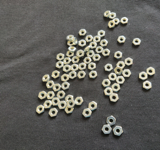nut: (114, 126, 124, 137), (102, 125, 112, 135), (104, 88, 114, 97), (49, 108, 58, 118), (107, 116, 116, 126), (147, 67, 156, 76), (102, 79, 111, 88), (110, 94, 119, 103), (57, 91, 66, 100), (38, 91, 47, 100), (36, 105, 45, 114), (65, 95, 74, 104), (58, 101, 67, 110), (75, 97, 84, 106), (65, 105, 74, 114), (89, 102, 98, 111), (83, 109, 92, 118), (116, 76, 126, 84), (51, 98, 61, 106), (133, 38, 142, 46), (140, 72, 148, 81), (144, 81, 152, 90), (115, 51, 123, 60), (102, 49, 111, 57), (114, 67, 123, 75), (109, 73, 117, 82), (112, 84, 121, 92), (88, 63, 97, 71), (89, 71, 98, 79), (56, 61, 64, 70), (52, 71, 61, 79), (42, 75, 51, 83), (62, 82, 71, 90), (46, 81, 55, 89), (67, 100, 76, 108), (98, 30, 106, 38), (86, 35, 94, 43), (125, 58, 133, 66), (96, 46, 104, 54), (77, 50, 85, 58), (105, 64, 113, 72), (93, 54, 101, 62), (57, 53, 65, 61), (72, 56, 80, 64), (79, 63, 87, 71), (71, 64, 79, 72), (63, 65, 71, 73), (78, 71, 86, 79), (69, 72, 77, 80), (61, 74, 69, 82), (53, 84, 61, 92), (47, 92, 55, 100), (44, 101, 52, 109), (68, 46, 77, 53), (117, 62, 126, 69), (123, 70, 132, 77), (104, 10, 111, 18), (109, 12, 117, 19), (121, 17, 129, 24), (109, 20, 116, 28), (118, 36, 126, 43), (93, 36, 101, 43), (79, 29, 87, 36), (100, 40, 108, 47), (90, 42, 98, 49), (79, 40, 86, 48), (67, 51, 75, 58), (84, 57, 92, 64), (64, 57, 71, 65), (113, 18, 120, 25), (84, 46, 91, 53), (67, 35, 74, 42), (87, 51, 95, 57), (68, 41, 75, 47), (73, 37, 78, 45)
